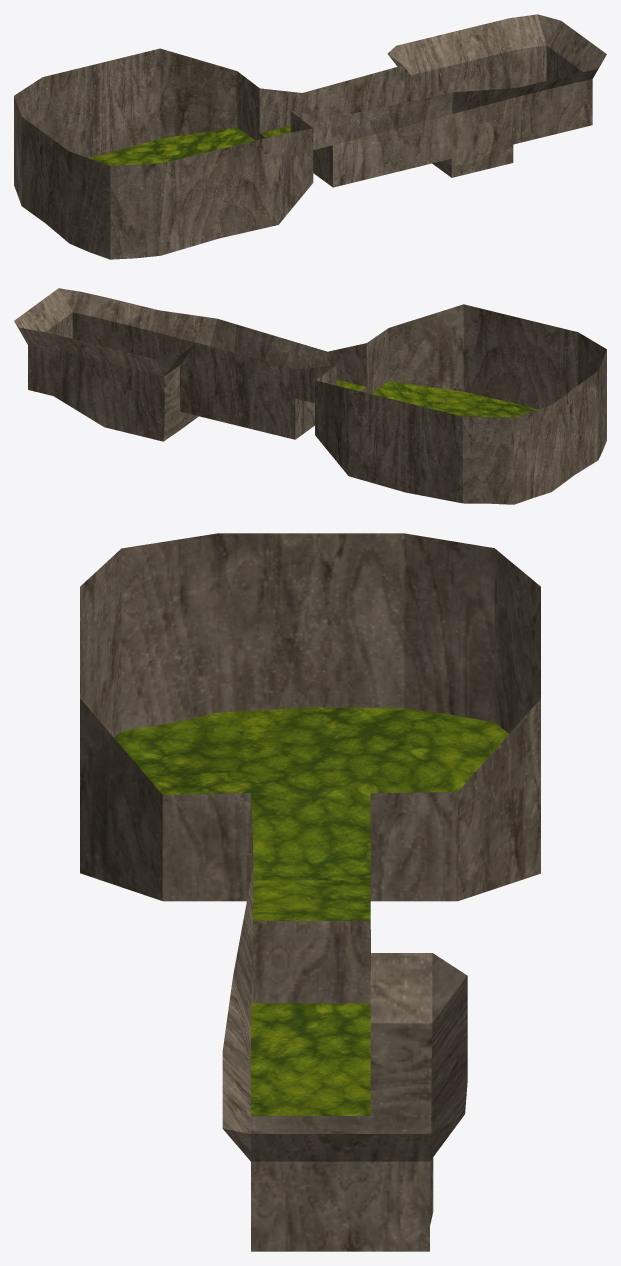
Rendered from Stage02.fbx.
The picture shows the model from 3 angles, top to bottom: view 1: azimuth 30°, elevation 25°; view 2: azimuth 150°, elevation 25°; view 3: azimuth 270°, elevation 25°; orthographic projection. The views are drawn at different scales.
Parts seen in each view (by area): view 1: Plane; view 2: Plane; view 3: Plane.
Boxes of the visible parts, x1,y1,x2,y2 form: Plane: [14, 14, 606, 259]; Plane: [14, 288, 606, 504]; Plane: [80, 533, 540, 1251].
Bounding box in the file's own units: 20.51 × 4.59 × 7.7.
2 materials, 2 textured.
